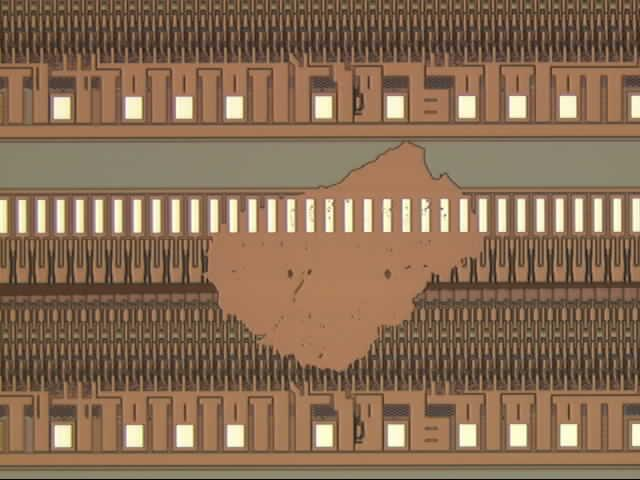BLOCK ETCH: (197, 136, 497, 379)
